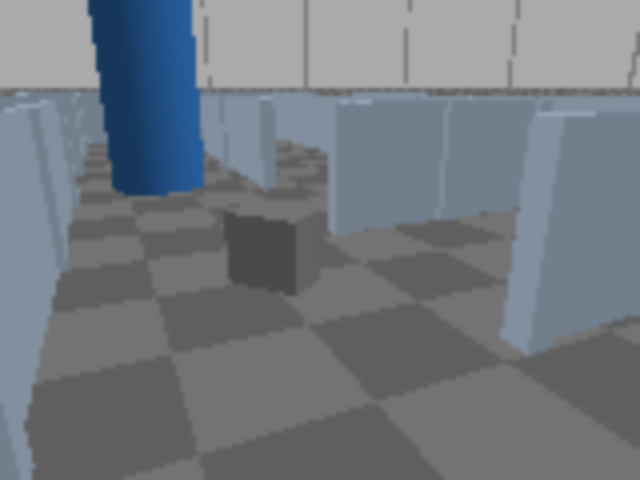obstacle: (224, 203, 319, 297)
